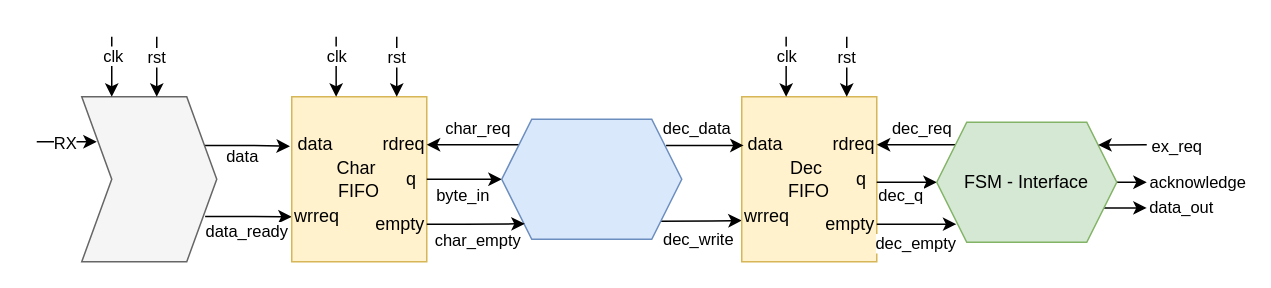
Some shapes in this 1271 by 288 pixel diagram are drawn without their labels. Here are the shapes that lost their labels. From the top down, the centre of each, then its label:
At (x=148, y=178): "Receiver".
At (x=591, y=178): "FSM - Convert".
